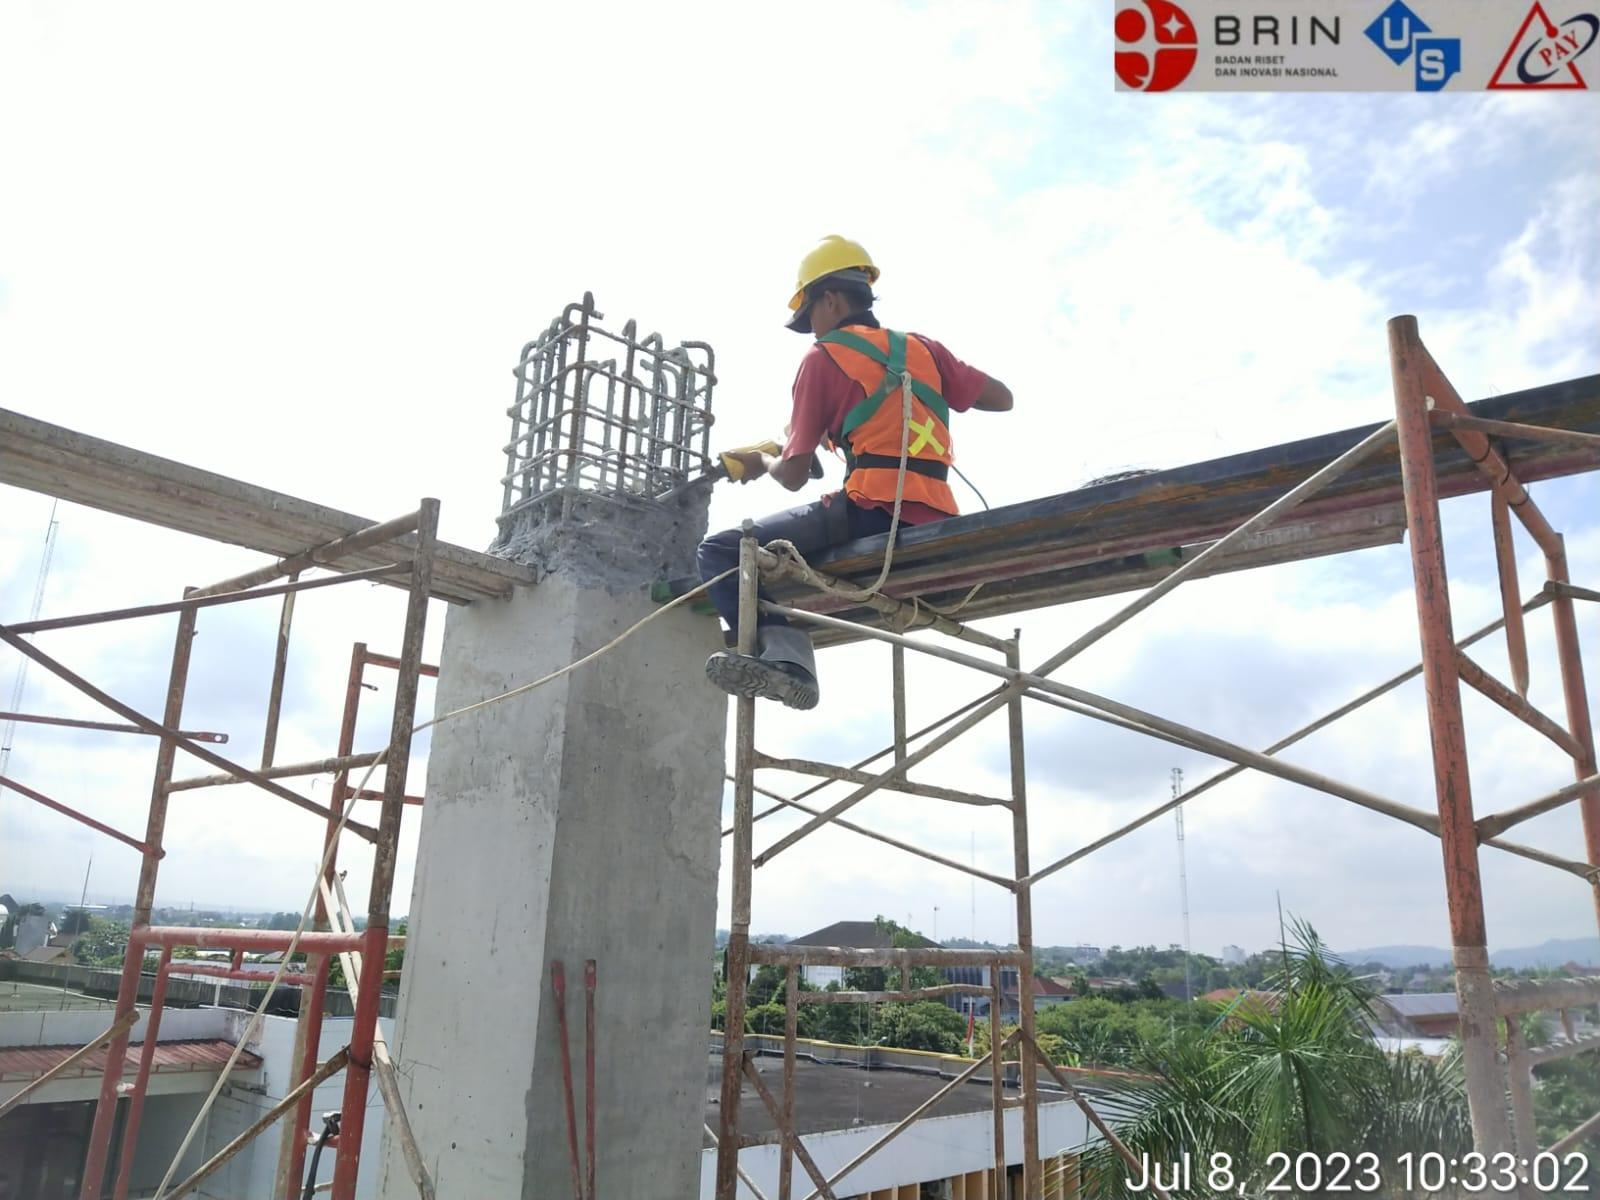hat: (734, 194, 939, 354)
vest: (753, 321, 1010, 531)
